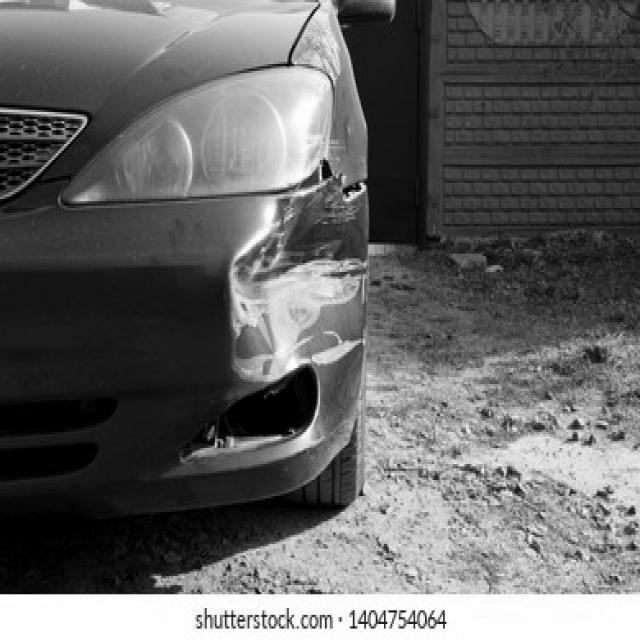front-bumper-dent: (173, 177, 373, 470)
